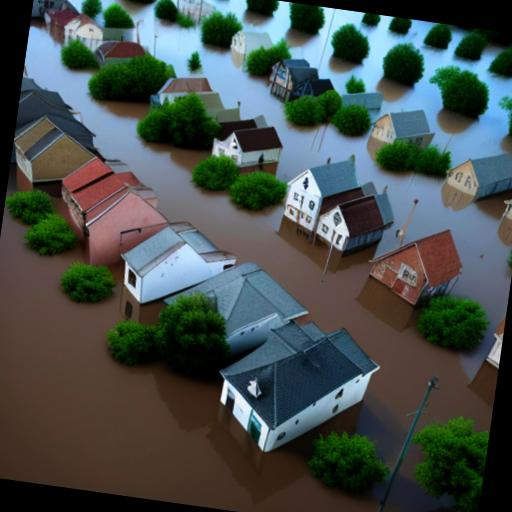flood: (0, 25, 493, 512), (101, 0, 512, 324), (204, 0, 512, 166), (379, 39, 500, 123), (63, 478, 100, 493)
house: (215, 304, 382, 472), (161, 250, 317, 370), (45, 150, 181, 282), (112, 210, 243, 320), (279, 149, 402, 266), (368, 216, 466, 314), (7, 106, 100, 200), (208, 111, 288, 180), (445, 142, 512, 210), (149, 66, 223, 124), (373, 104, 436, 159), (264, 53, 324, 109), (96, 34, 151, 79), (226, 26, 279, 62), (64, 13, 104, 60), (483, 298, 508, 373), (46, 0, 85, 44), (29, 0, 65, 31), (496, 185, 512, 249), (167, 0, 206, 25)
